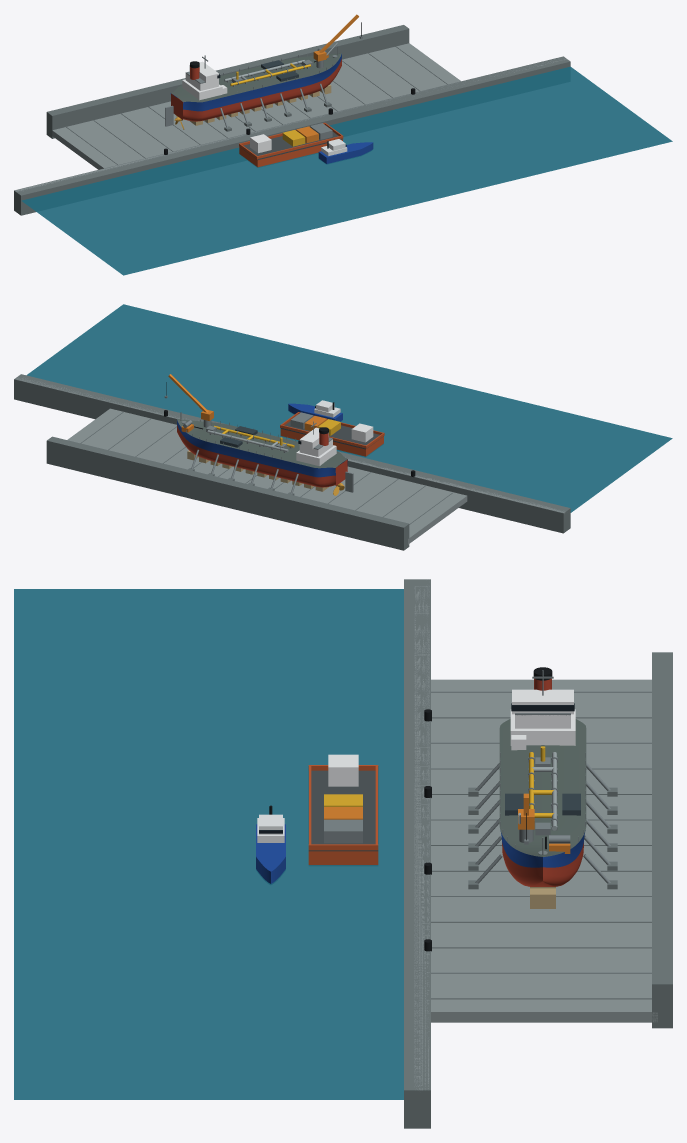
The model's file is ship.glb.
The picture shows the model from 3 angles, top to bottom: view 1: azimuth 30°, elevation 25°; view 2: azimuth 150°, elevation 25°; view 3: azimuth 270°, elevation 25°; orthographic projection. The views are drawn at different scales.
Visible parts, largest first — view 1: water, dock_floor, dock, hl_barge, deck, hull_lower, hull_upper, hl_engine, hl_dock, hl_pipes, hl_crane; view 2: water, dock, dock_floor, hl_barge, deck, hull_lower, hull_upper, hl_engine, hl_pipes, hl_dock, hl_crane; view 3: water, dock_floor, dock, hl_barge, deck, hl_engine, hl_dock, hl_pipes, hull_lower, hull_upper, hl_crane.
Part boxes in pixels (bbox=[...]): water: bbox=[21, 66, 672, 275]; dock_floor: bbox=[52, 43, 460, 169]; dock: bbox=[14, 25, 570, 215]; hl_barge: bbox=[239, 122, 373, 167]; deck: bbox=[171, 53, 341, 102]; hull_lower: bbox=[178, 59, 341, 121]; hull_upper: bbox=[170, 53, 341, 111]; hl_engine: bbox=[182, 55, 227, 100]; hl_dock: bbox=[190, 83, 331, 131]; hl_pipes: bbox=[224, 60, 312, 86]; hl_crane: bbox=[313, 14, 362, 68]; water: bbox=[27, 304, 672, 512]; dock: bbox=[14, 374, 570, 550]; dock_floor: bbox=[67, 408, 467, 544]; hl_barge: bbox=[280, 400, 384, 456]; deck: bbox=[177, 419, 347, 468]; hull_lower: bbox=[177, 425, 340, 487]; hull_upper: bbox=[177, 420, 347, 477]; hl_engine: bbox=[296, 421, 336, 466]; hl_pipes: bbox=[206, 425, 294, 452]; hl_dock: bbox=[187, 449, 328, 495]; hl_crane: bbox=[164, 374, 213, 432]; water: bbox=[14, 589, 403, 1099]; dock_floor: bbox=[431, 679, 657, 1022]; dock: bbox=[404, 579, 672, 1128]; hl_barge: bbox=[256, 754, 378, 883]; deck: bbox=[499, 719, 586, 856]; hl_engine: bbox=[510, 667, 575, 750]; hl_dock: bbox=[468, 763, 617, 908]; hl_pipes: bbox=[505, 746, 580, 835]; hull_lower: bbox=[502, 842, 583, 886]; hull_upper: bbox=[500, 830, 585, 867]; hl_crane: bbox=[518, 793, 570, 853].
Size of what is drawn, in the model's own units: 40 by 6.08 by 21.8.
